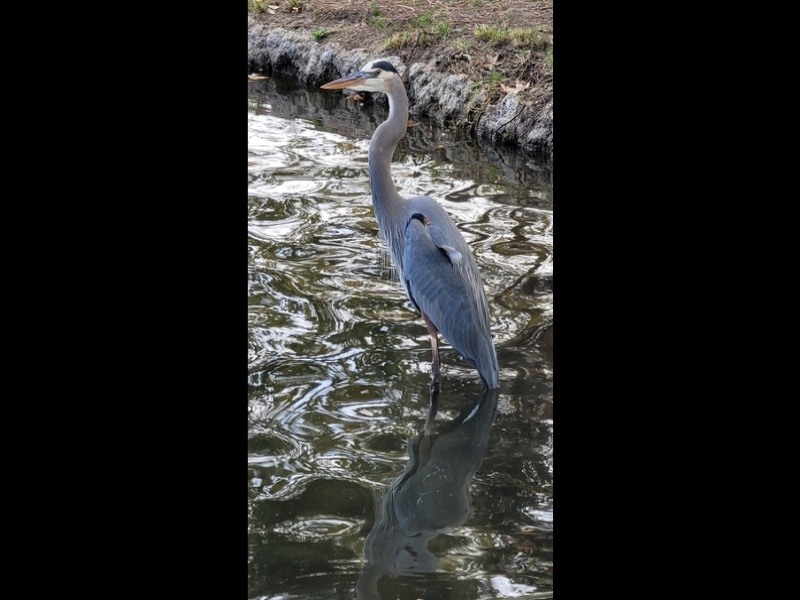heron: (321, 56, 503, 395)
